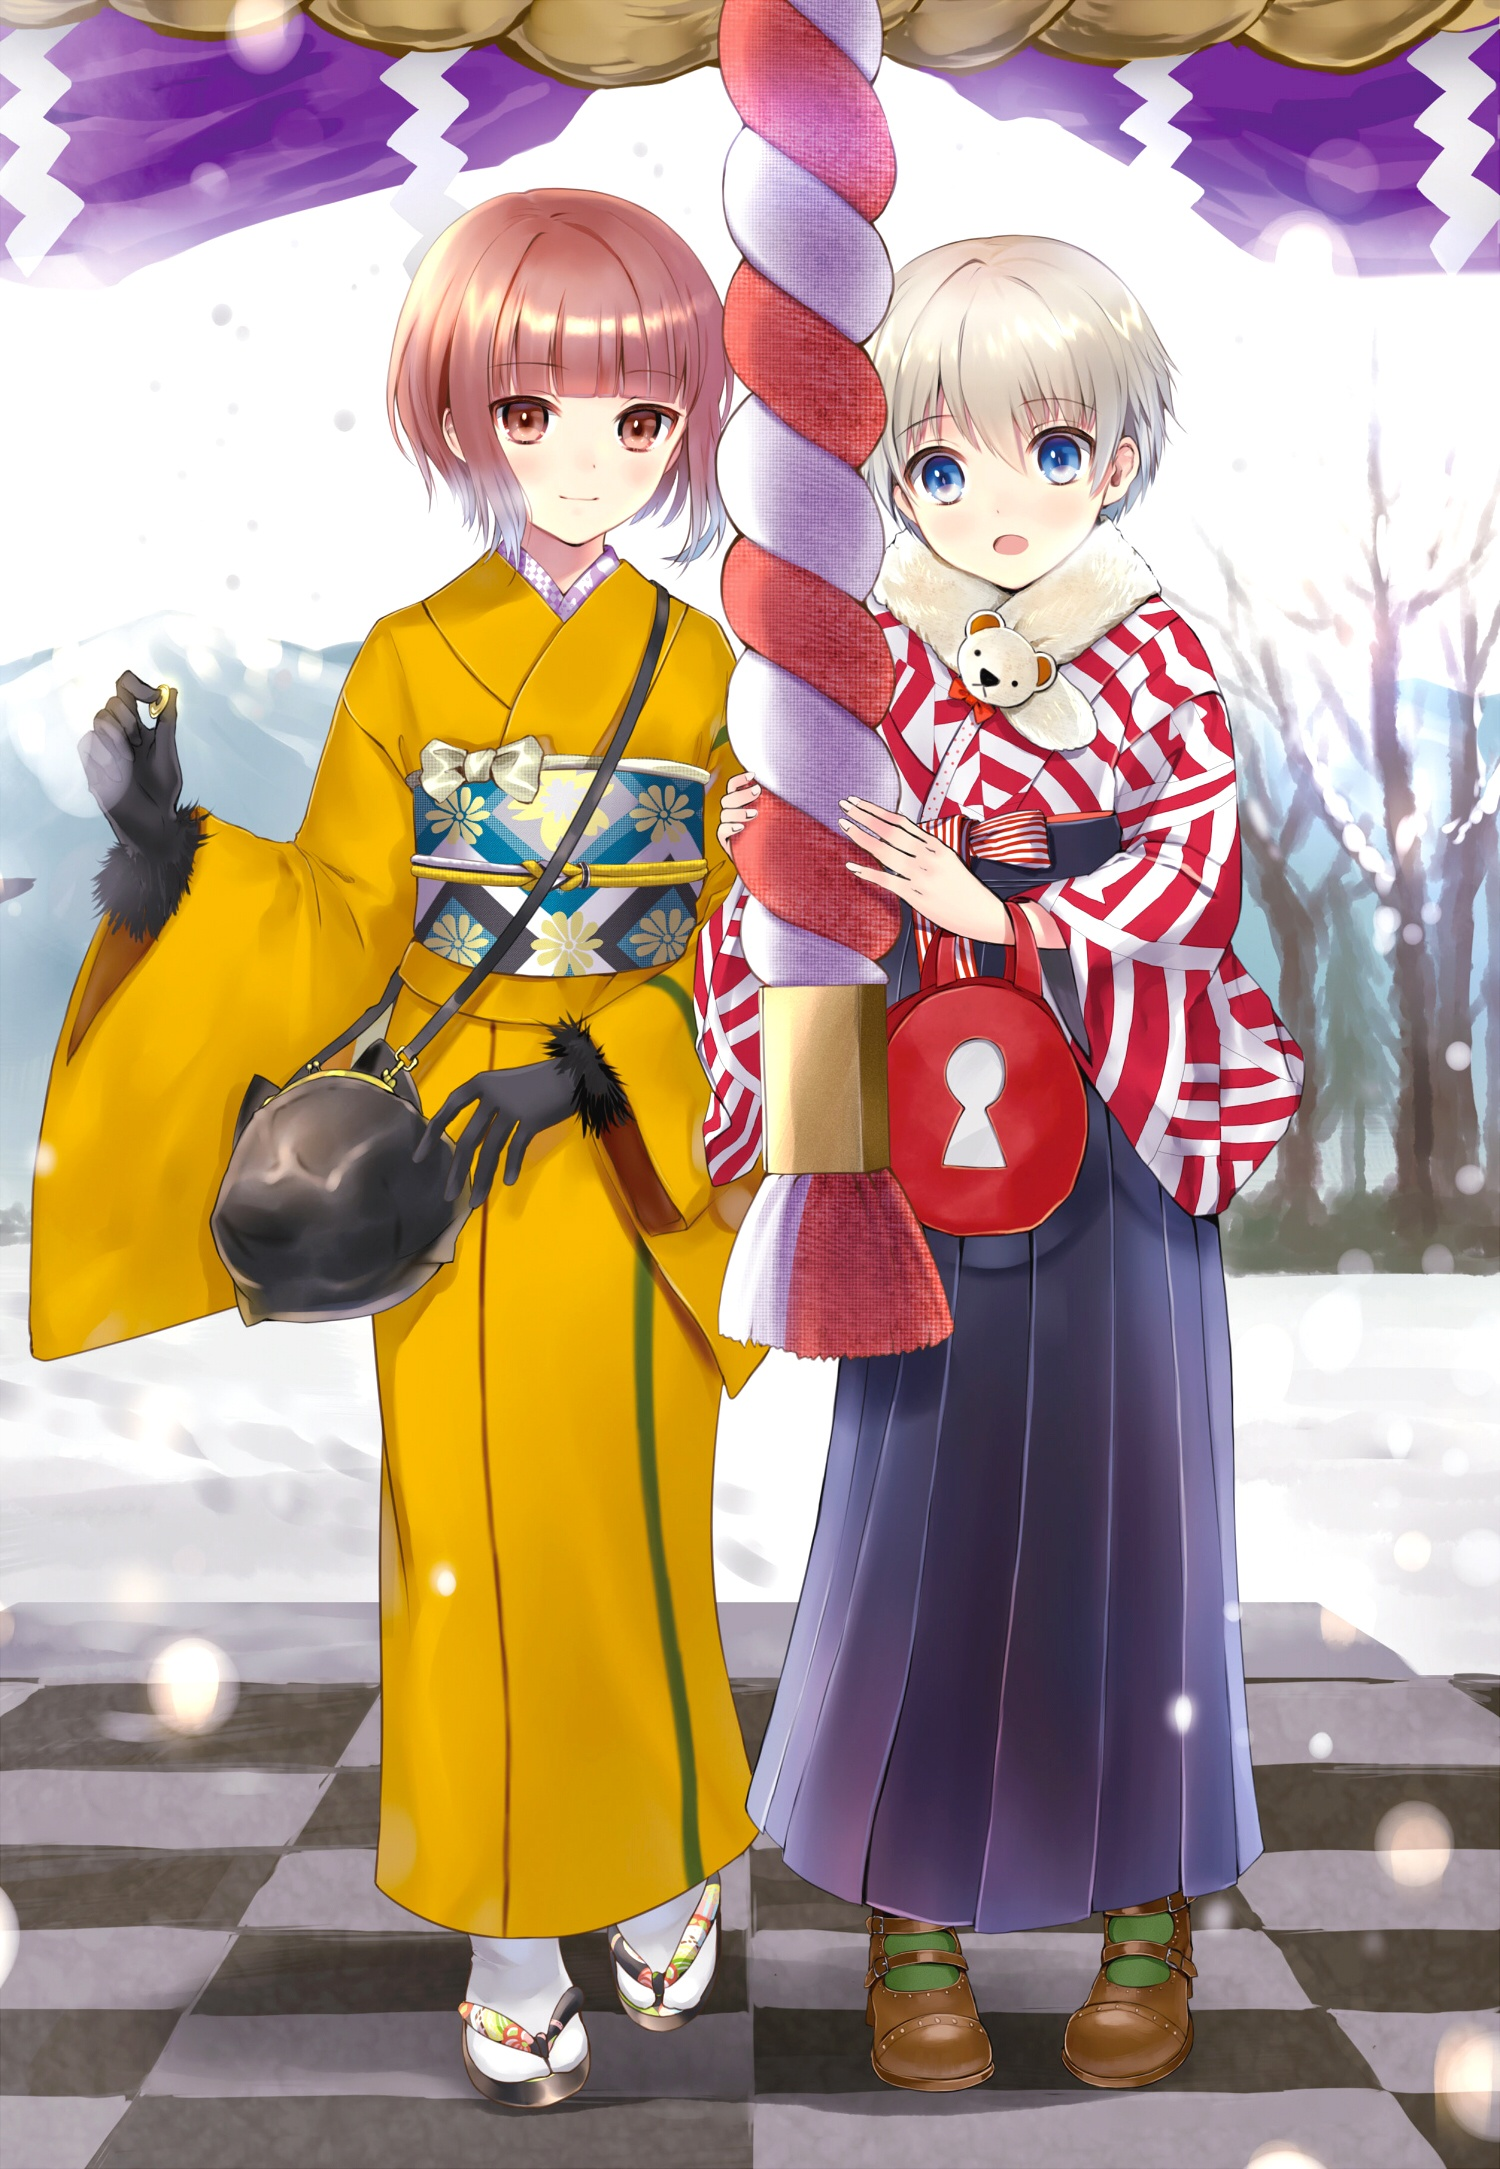纸片人正脸: (394, 184, 726, 556), (862, 229, 1176, 599)
